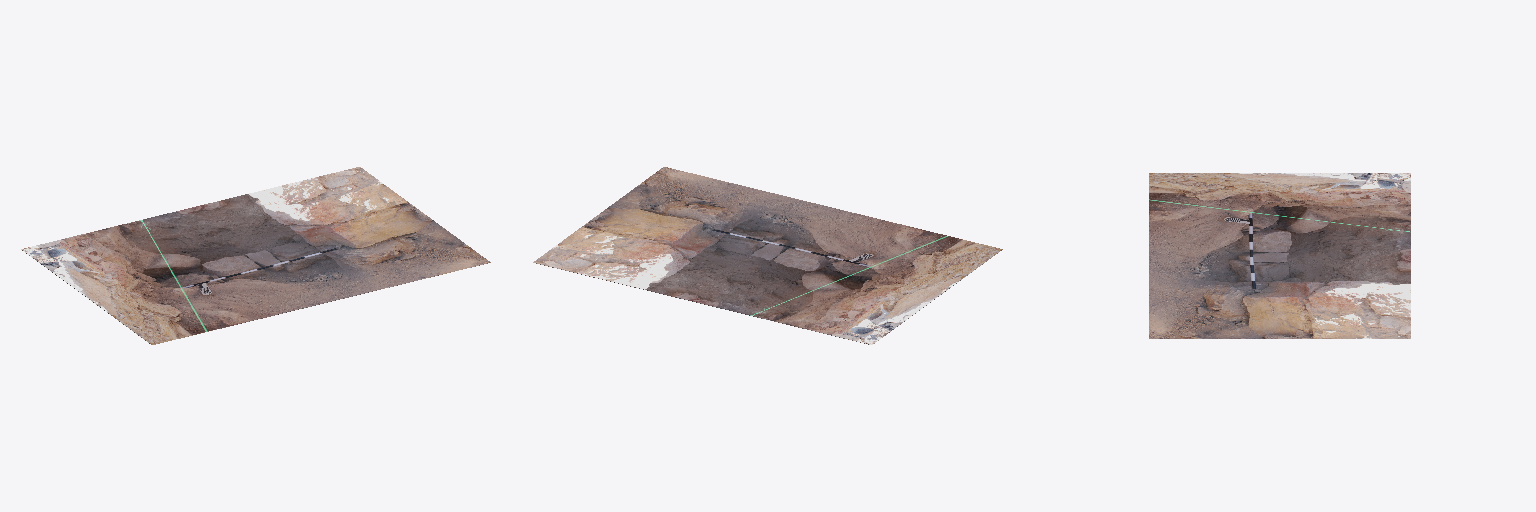
3 renders of one model, left to right at view 1: azimuth 30°, elevation 25°; view 2: azimuth 150°, elevation 25°; view 3: azimuth 270°, elevation 25°, orthographic.
Bounding box in the file's own units: 12.9 × 0.01 × 8.64.
1 materials, 1 textured.